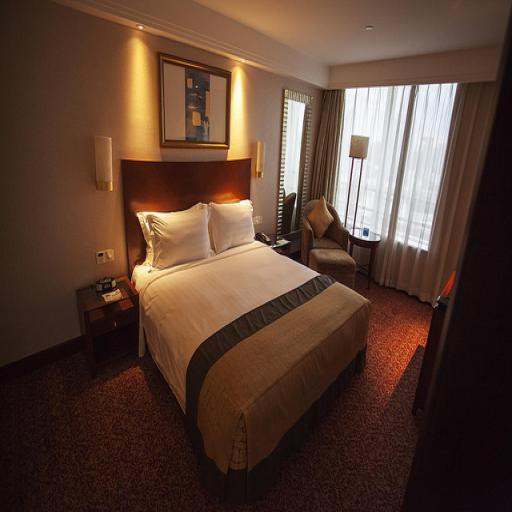bed: (94, 140, 392, 494)
